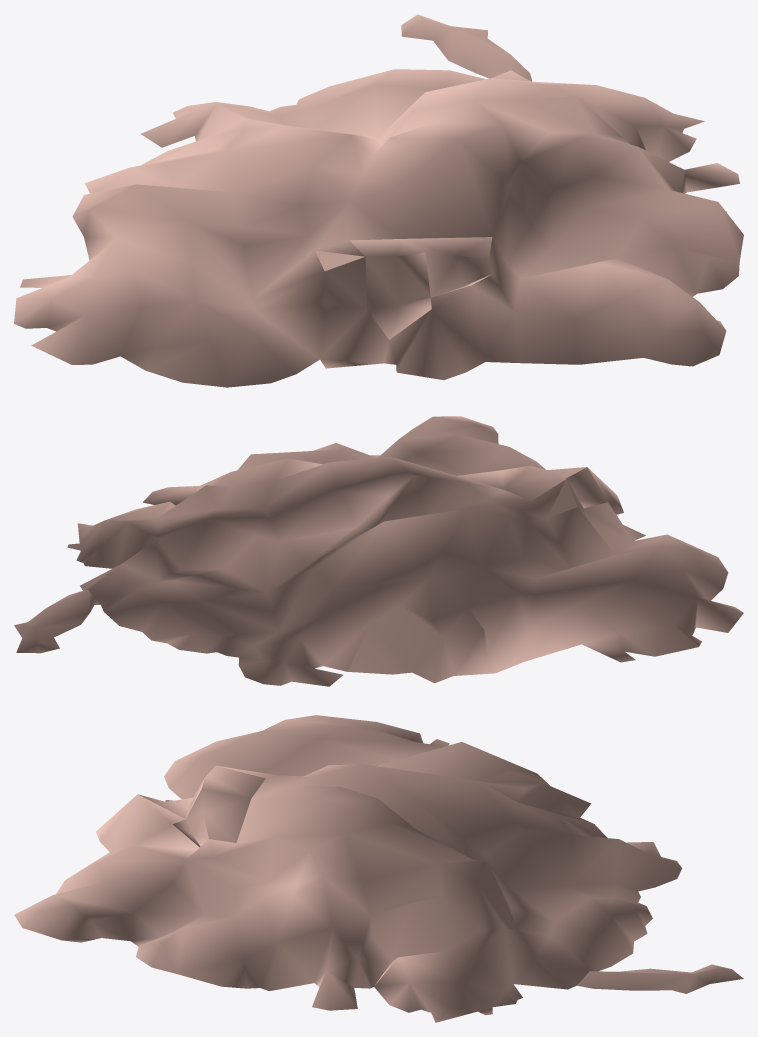
File: 5_material40_vestiti1.fbx
The picture shows the model from 3 angles, top to bottom: view 1: azimuth 30°, elevation 25°; view 2: azimuth 150°, elevation 25°; view 3: azimuth 270°, elevation 25°; orthographic projection. The views are drawn at different scales.
Parts seen in each view (by area): view 1: 5_material40_vestiti; view 2: 5_material40_vestiti; view 3: 5_material40_vestiti.
Boxes of the visible parts, bbox=[...] form: 5_material40_vestiti: bbox=[14, 14, 743, 387]; 5_material40_vestiti: bbox=[14, 416, 743, 686]; 5_material40_vestiti: bbox=[14, 715, 743, 1022].
Size of the model in its own units: 563 by 79.1 by 569.
